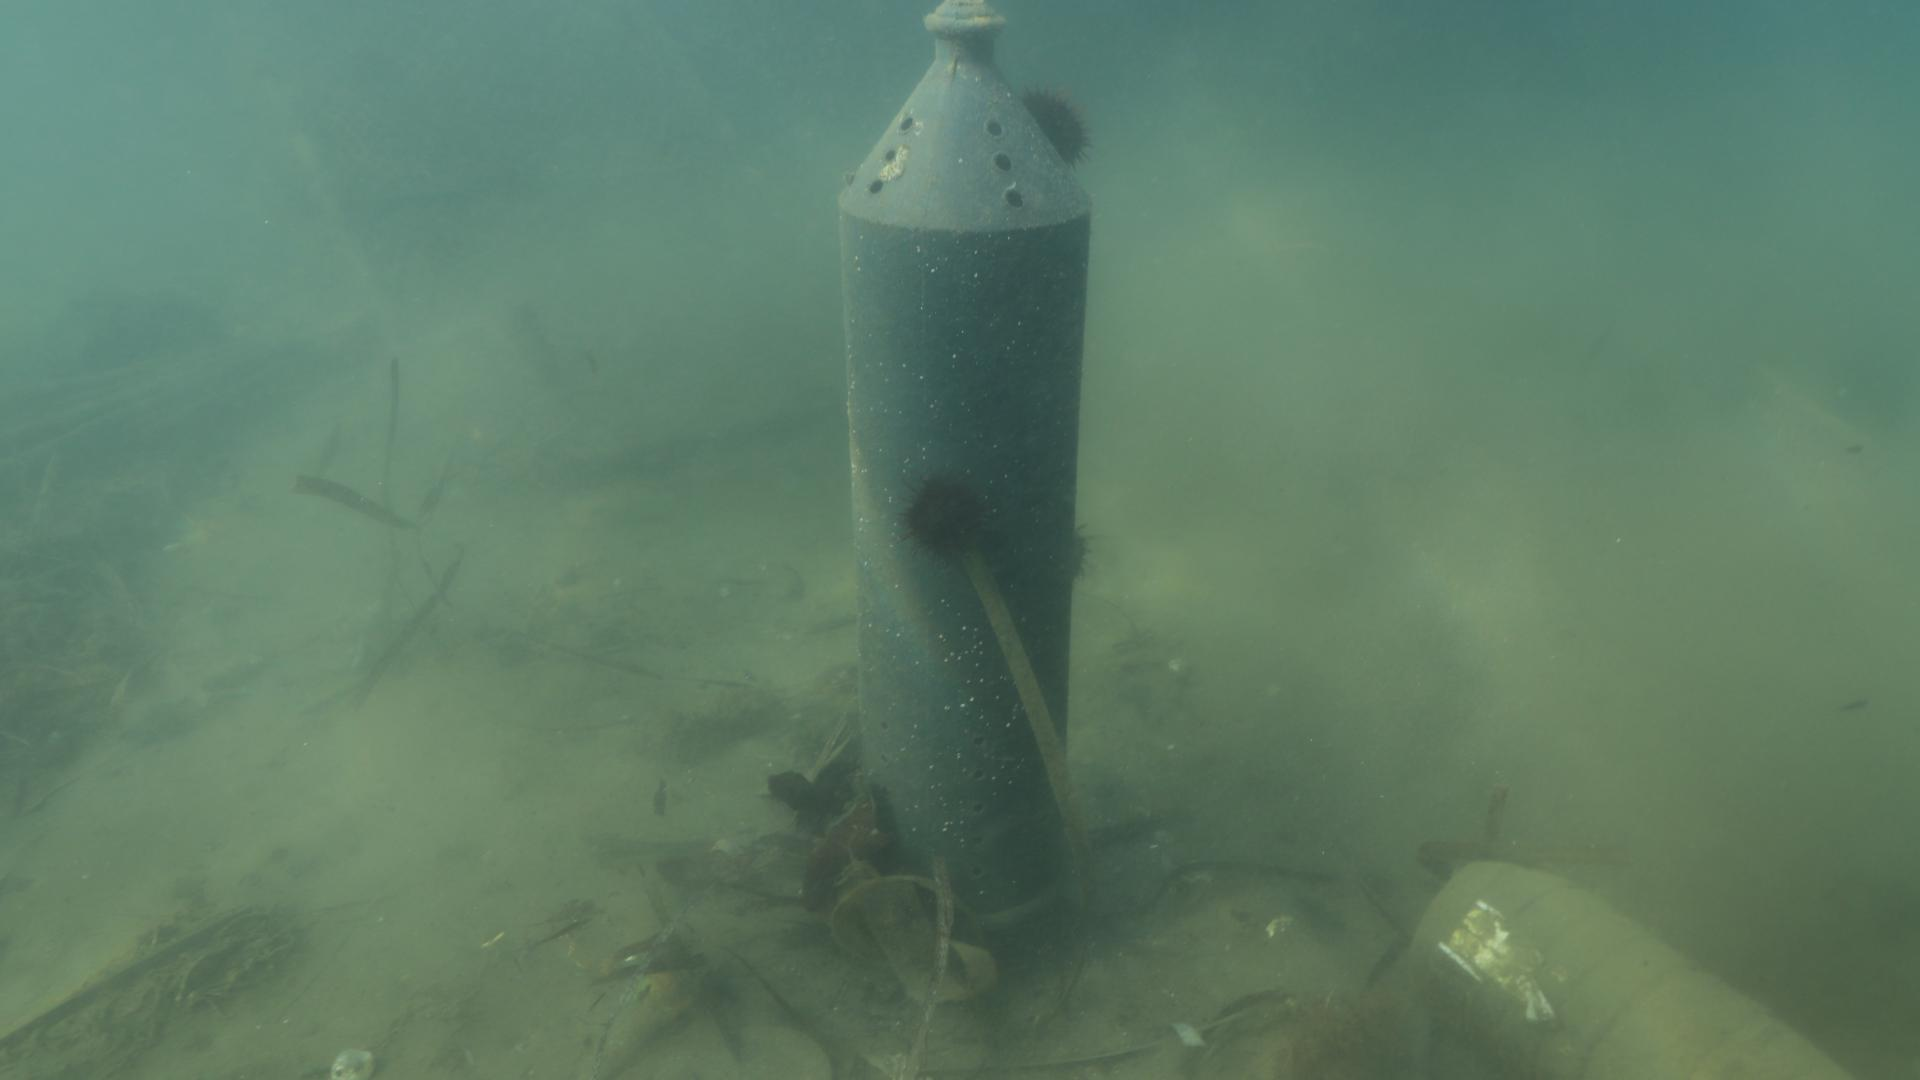eel fish trap: (841, 3, 1091, 975)
